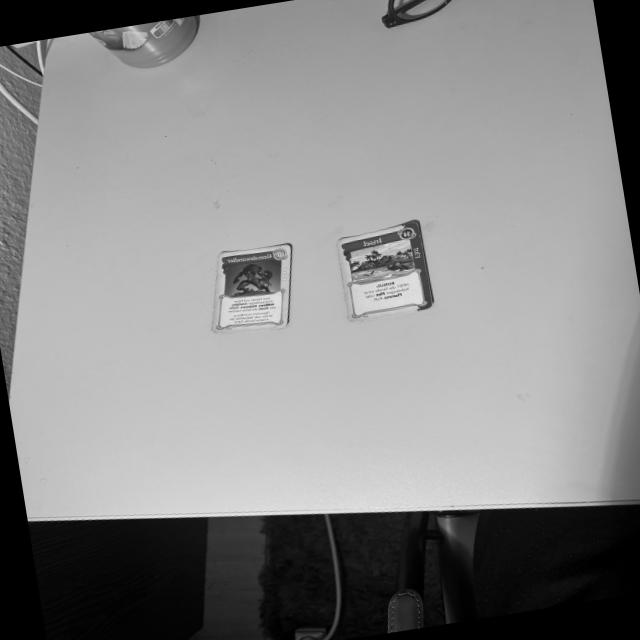Island: (337, 221, 432, 322)
Shapeshifter: (214, 244, 291, 334)
